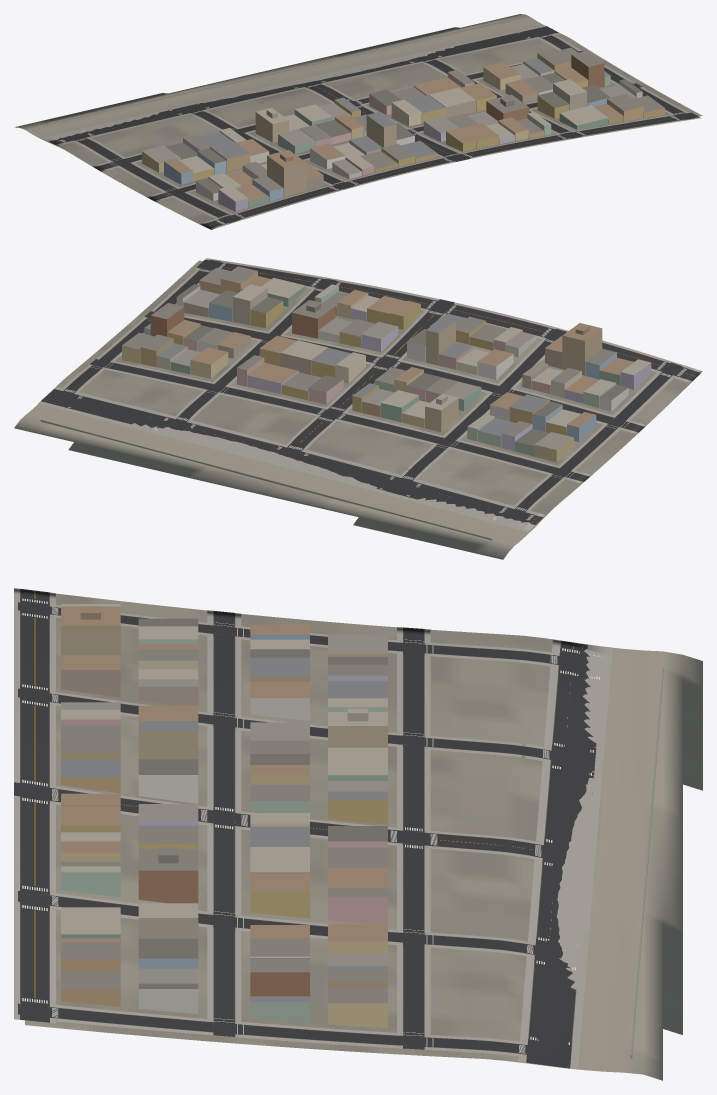
3 renders of one model, top to bottom at view 1: azimuth 30°, elevation 25°; view 2: azimuth 150°, elevation 25°; view 3: azimuth 270°, elevation 25°, orthographic. The views are drawn at different scales.
Visible parts, largest first — view 1: buildings, ground, roads; view 2: buildings, ground, roads; view 3: ground, buildings, roads.
Part boxes in pixels (left/top/right/bottom): buildings: left=47, top=18, right=664, bottom=211; ground: left=15, top=14, right=702, bottom=227; roads: left=42, top=25, right=701, bottom=229; buildings: left=40, top=266, right=651, bottom=540; ground: left=14, top=260, right=698, bottom=559; roads: left=38, top=258, right=702, bottom=532; ground: left=25, top=593, right=702, bottom=1080; buildings: left=61, top=604, right=663, bottom=1058; roads: left=14, top=588, right=612, bottom=1069.
Size of the model in its own units: 501 by 76.12 by 345.
